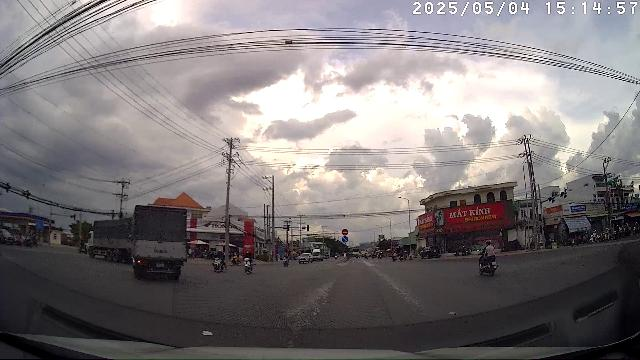102-cam-di-nguoc-chieu: (342, 229, 348, 236)
302a-huong-phai-di-vong-chuong-ngai-vat-1: (342, 236, 348, 242)
